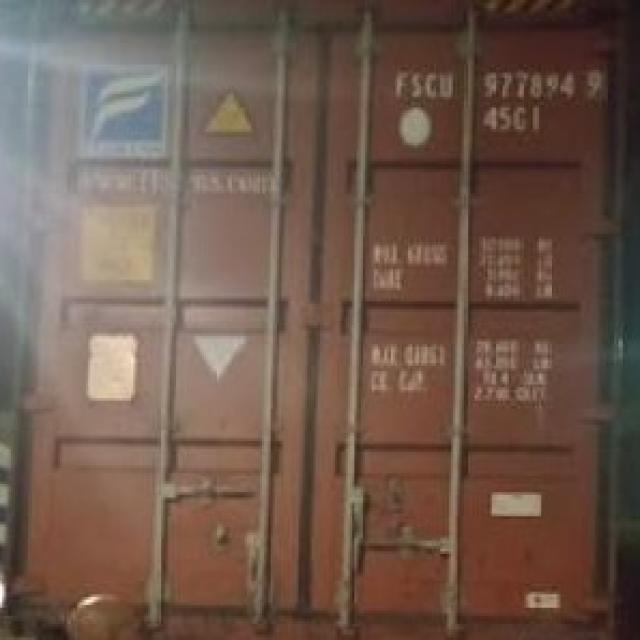ISO: (484, 104, 546, 134)
container_number: (394, 66, 608, 102)
